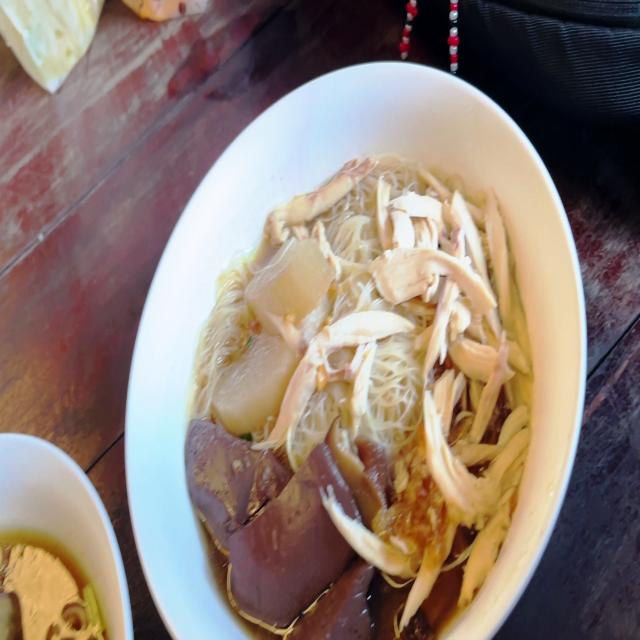boiled_chicken_blood_jelly: (189, 447, 364, 624)
chicken_shredded: (401, 194, 525, 494)
daikon_radish: (250, 236, 334, 335), (216, 348, 304, 422)
noodle: (174, 150, 538, 640), (0, 491, 97, 640)
